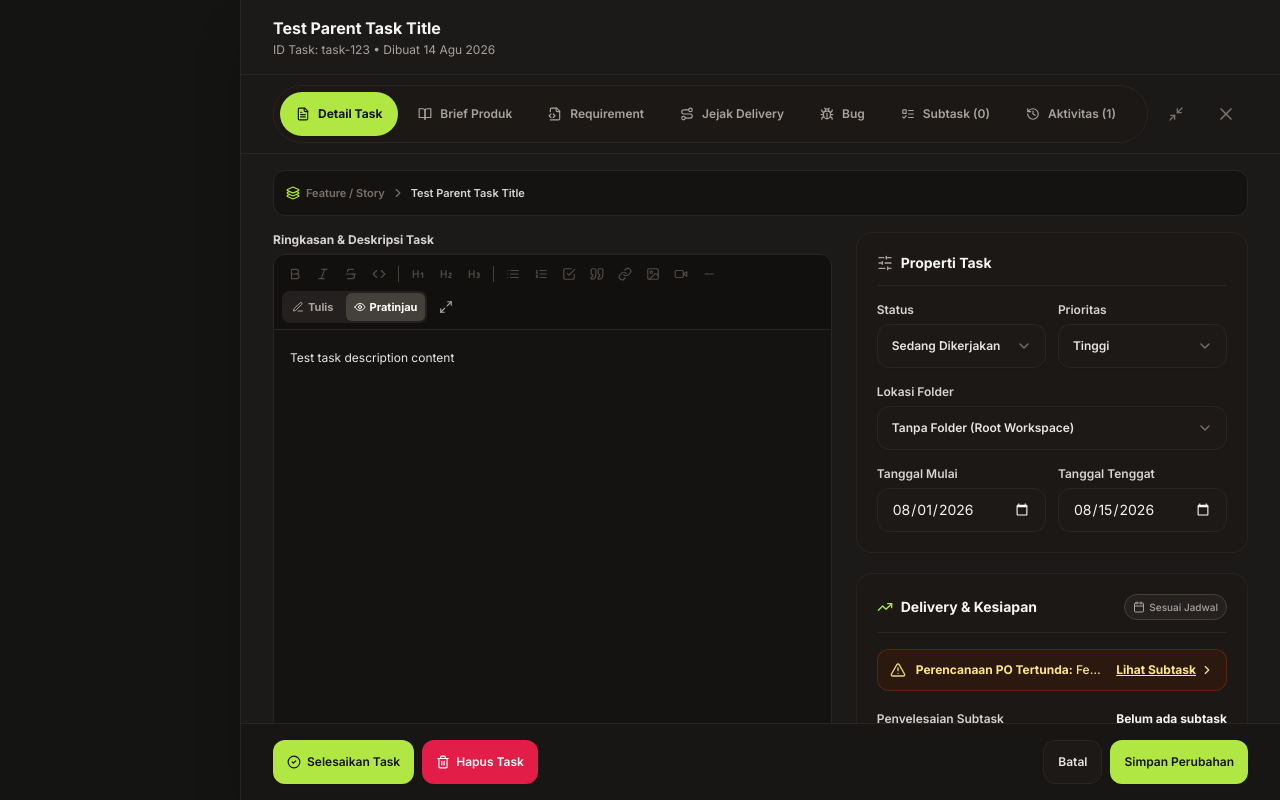
Test: TaskDetailDrawer UI Component › renders attachment deletion activity with a human-readable record name
The image size is (1280, 800).
Expected: the heading "Test Parent Task Title" is shown, x1=273 y1=18 x2=441 y2=38
Click the tab "Aktivitas (1)": (1071, 114) x1=1010 y1=92 x2=1132 y2=136
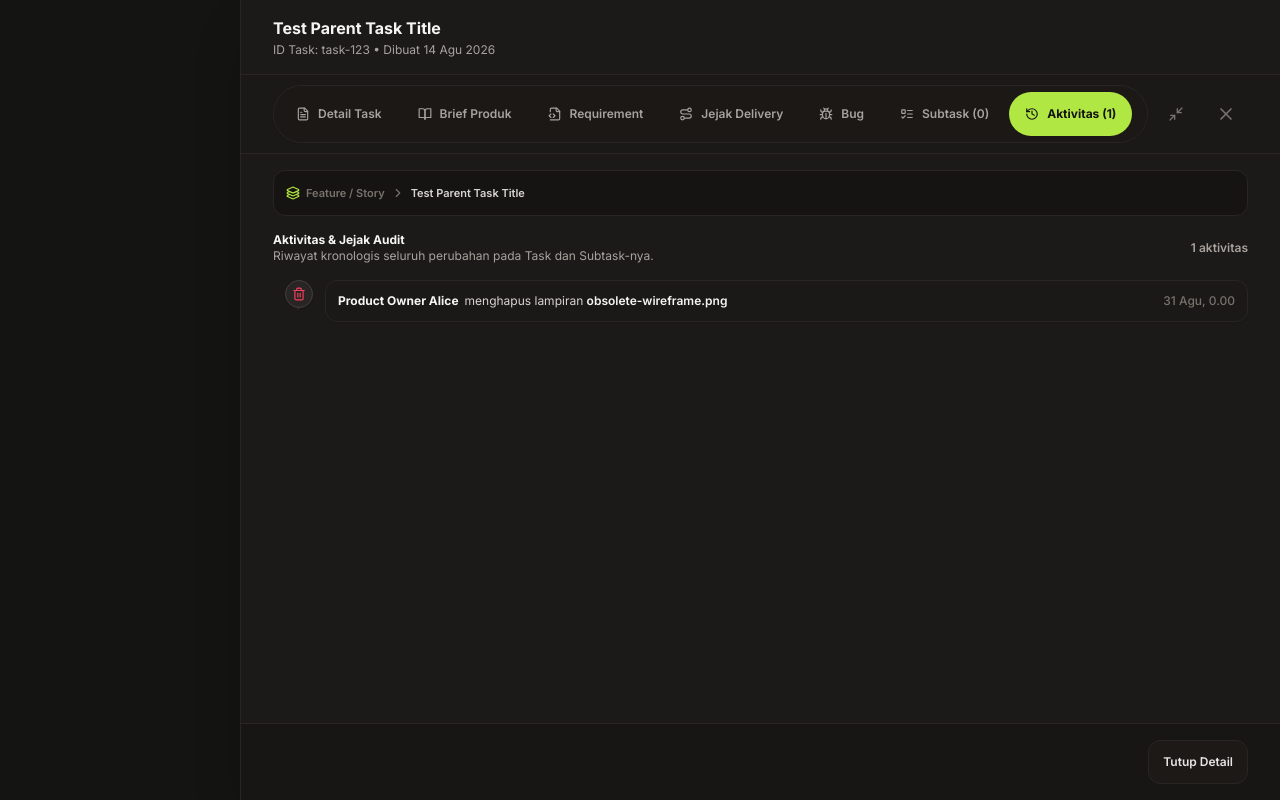
Expected: the text "menghapus lampiran" is shown, x1=464 y1=293 x2=583 y2=308
Expected: the text "obsolete-wireframe.png" is shown, x1=587 y1=293 x2=727 y2=308
